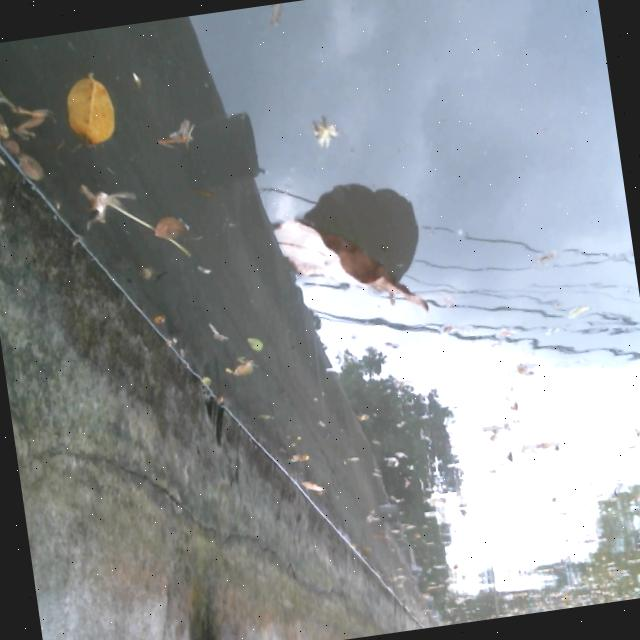Big-leaf: (264, 188, 434, 342)
Small-leaf: (57, 63, 124, 158), (145, 203, 195, 250), (13, 141, 52, 191), (227, 356, 261, 387), (281, 444, 316, 471), (237, 331, 267, 362), (134, 260, 159, 296), (556, 306, 595, 328), (298, 472, 326, 501), (0, 94, 11, 142)
